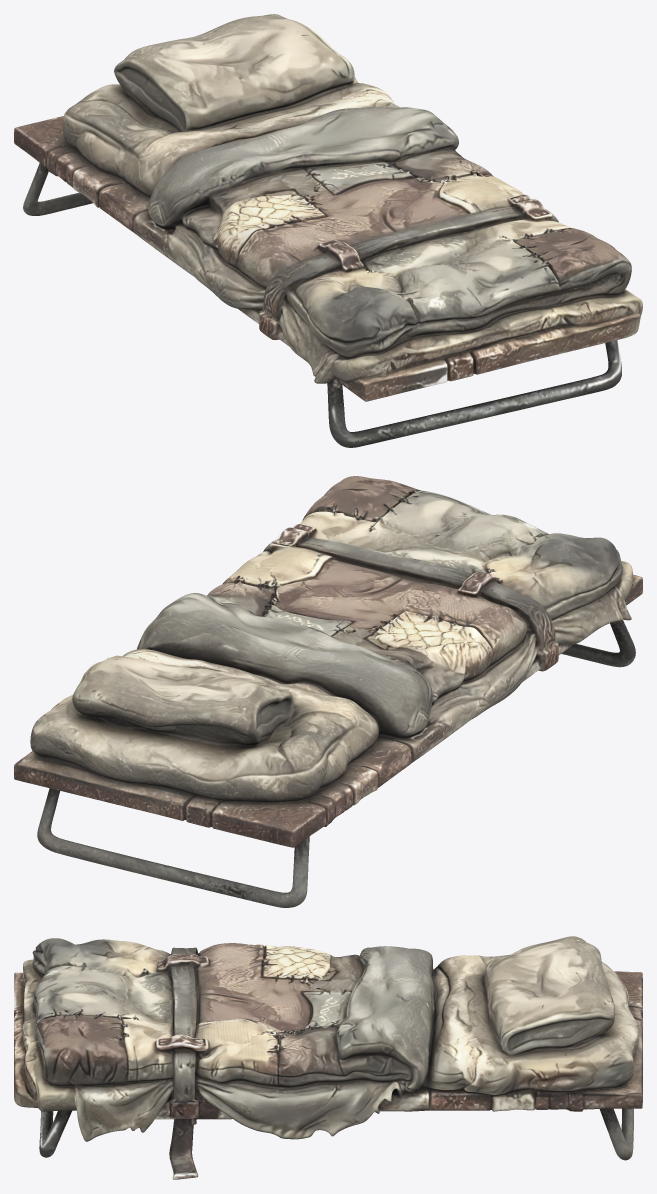
File: prop_cot_bed_shaded.glb
The picture shows the model from 3 angles, top to bottom: view 1: azimuth 30°, elevation 25°; view 2: azimuth 150°, elevation 25°; view 3: azimuth 270°, elevation 25°; orthographic projection. The views are drawn at different scales.
Visible parts, largest first — view 1: model; view 2: model; view 3: model.
Boxes of the visible parts, x1,y1,x2,y2 form: model: (14, 14, 642, 447); model: (14, 476, 642, 907); model: (14, 936, 642, 1179).
Size of the model in its own units: 1.05 by 0.4969 by 1.9.
1 material, 1 textured.
